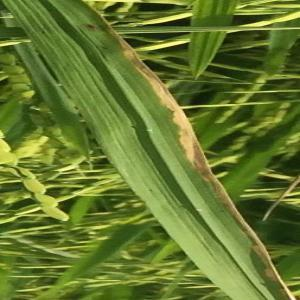2 BacterialBlight: (107, 65, 233, 268)
